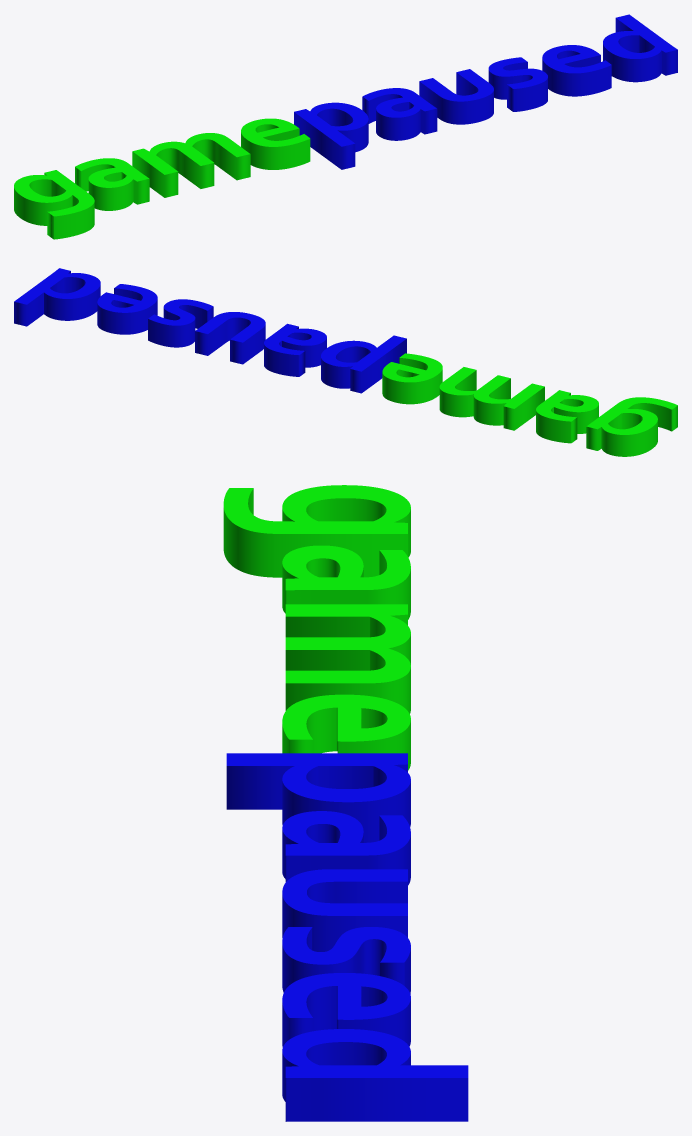
File: gamepaused.glb
3 renders of one model, top to bottom at view 1: azimuth 30°, elevation 25°; view 2: azimuth 150°, elevation 25°; view 3: azimuth 270°, elevation 25°, orthographic. The views are drawn at different scales.
Parts seen in each view (by area): view 1: Text; view 2: Text; view 3: Text.
Boxes of the visible parts, bbox=[...] form: Text: bbox=[14, 14, 677, 239]; Text: bbox=[14, 268, 677, 456]; Text: bbox=[223, 485, 468, 1121].
Size of the model in its own units: 2.91 by 0.1 by 0.5079.
